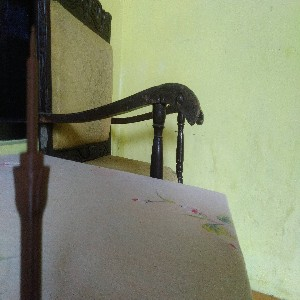solder: (12, 23, 51, 300)
